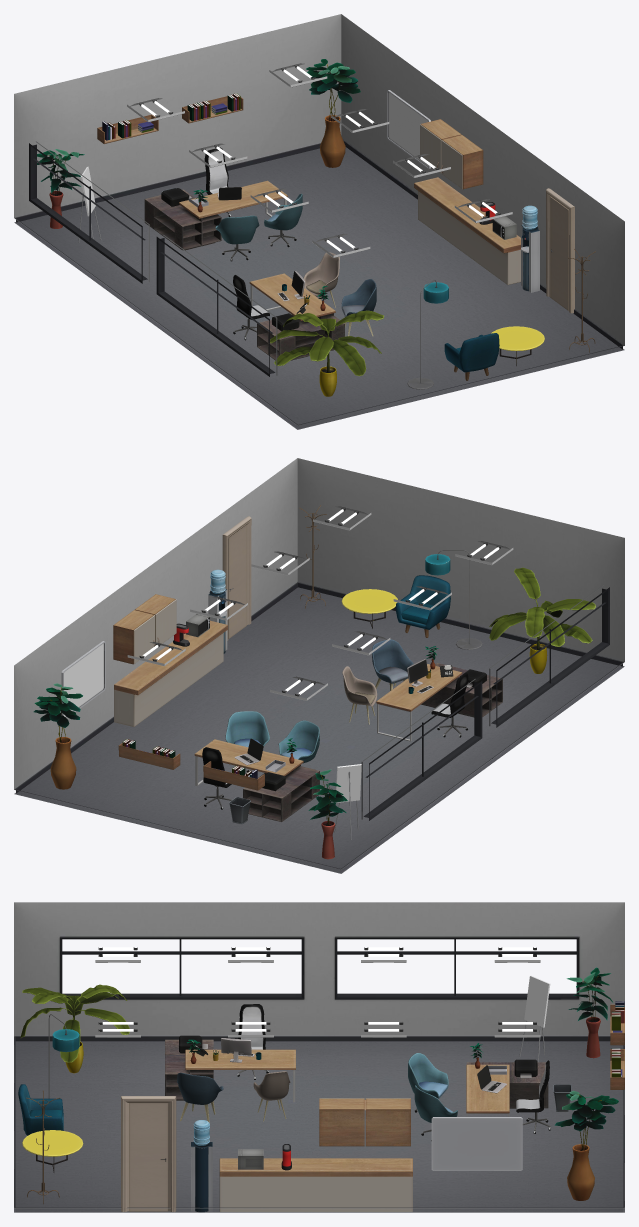
File: 6DED5640-59BE-4D6C-B630-A949B5021118.gltf
The picture shows the model from 3 angles, top to bottom: view 1: azimuth 30°, elevation 25°; view 2: azimuth 150°, elevation 25°; view 3: azimuth 270°, elevation 25°; orthographic projection. The views are drawn at different scales.
Parts seen in each view (by area): view 1: salle_12X8, SURF003, SURF001, SURF004, PLAN002, PORT001, RANG001, PLAN003, DECO001, CONF001, CUIS007, PLAN000 (+9 smaller); view 2: salle_12X8, SURF003, SURF001, PLAN002, SURF004, RANG001, PORT001, PLAN003, CONF001, DECO001, PLAN000, CONF007 (+11 smaller); view 3: salle_12X8, SURF003, PORT001, DECO001, RANG001, SURF004, SURF001, PLAN003, PLAN002, CUIS007, PLAN000, CONF001 (+12 smaller).
Part boxes in pixels (bbox=[...]): salle_12X8: bbox=[14, 14, 624, 429]; SURF003: bbox=[414, 177, 520, 284]; SURF001: bbox=[144, 180, 287, 250]; SURF004: bbox=[249, 273, 344, 360]; PLAN002: bbox=[270, 310, 383, 396]; PORT001: bbox=[546, 188, 574, 313]; RANG001: bbox=[420, 119, 483, 189]; PLAN003: bbox=[306, 59, 360, 167]; DECO001: bbox=[387, 90, 430, 169]; CONF001: bbox=[444, 333, 499, 380]; CUIS007: bbox=[521, 205, 539, 292]; PLAN000: bbox=[37, 149, 84, 228]; salle_12X8: bbox=[14, 458, 624, 873]; SURF003: bbox=[114, 620, 227, 726]; SURF001: bbox=[194, 739, 319, 821]; PLAN002: bbox=[489, 567, 595, 673]; SURF004: bbox=[376, 663, 502, 741]; RANG001: bbox=[113, 594, 176, 664]; PORT001: bbox=[222, 516, 251, 640]; PLAN003: bbox=[33, 683, 82, 789]; CONF001: bbox=[396, 575, 450, 637]; DECO001: bbox=[61, 641, 105, 718]; PLAN000: bbox=[308, 769, 347, 859]; CONF007: bbox=[372, 639, 413, 690]; salle_12X8: bbox=[14, 902, 624, 1212]; SURF003: bbox=[219, 1158, 412, 1211]; PORT001: bbox=[121, 1096, 176, 1212]; DECO001: bbox=[431, 1117, 522, 1170]; RANG001: bbox=[319, 1098, 410, 1146]; SURF004: bbox=[165, 1039, 295, 1102]; SURF001: bbox=[466, 1062, 548, 1116]; PLAN003: bbox=[554, 1090, 618, 1200]; PLAN002: bbox=[20, 984, 129, 1073]; CUIS007: bbox=[191, 1120, 212, 1212]; PLAN000: bbox=[566, 967, 612, 1058]; CONF001: bbox=[18, 1084, 63, 1135].
Size of the model in its own units: 8.17 by 3.02 by 12.
